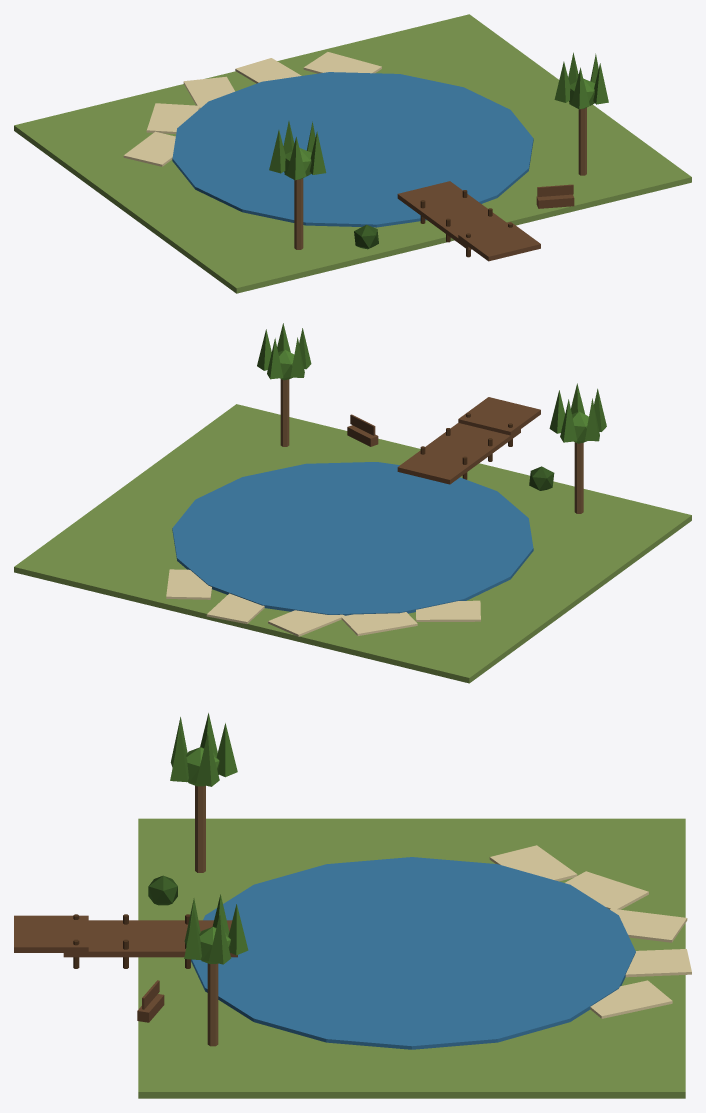
File: landscape.recreational-lake.glb
3 views of the same model, one above another, from view 1: azimuth 30°, elevation 25°; view 2: azimuth 150°, elevation 25°; view 3: azimuth 270°, elevation 25° (orthographic). The views are drawn at different scales.
Visible parts, largest first — view 1: landscape.recreational-lake; view 2: landscape.recreational-lake; view 3: landscape.recreational-lake.
Boxes of the visible parts, left/top/right/bottom form: landscape.recreational-lake: left=14, top=14, right=691, bottom=293; landscape.recreational-lake: left=14, top=323, right=691, bottom=683; landscape.recreational-lake: left=14, top=713, right=691, bottom=1098.
Bounding box in the file's own units: 26 × 6.9 × 27.25.
